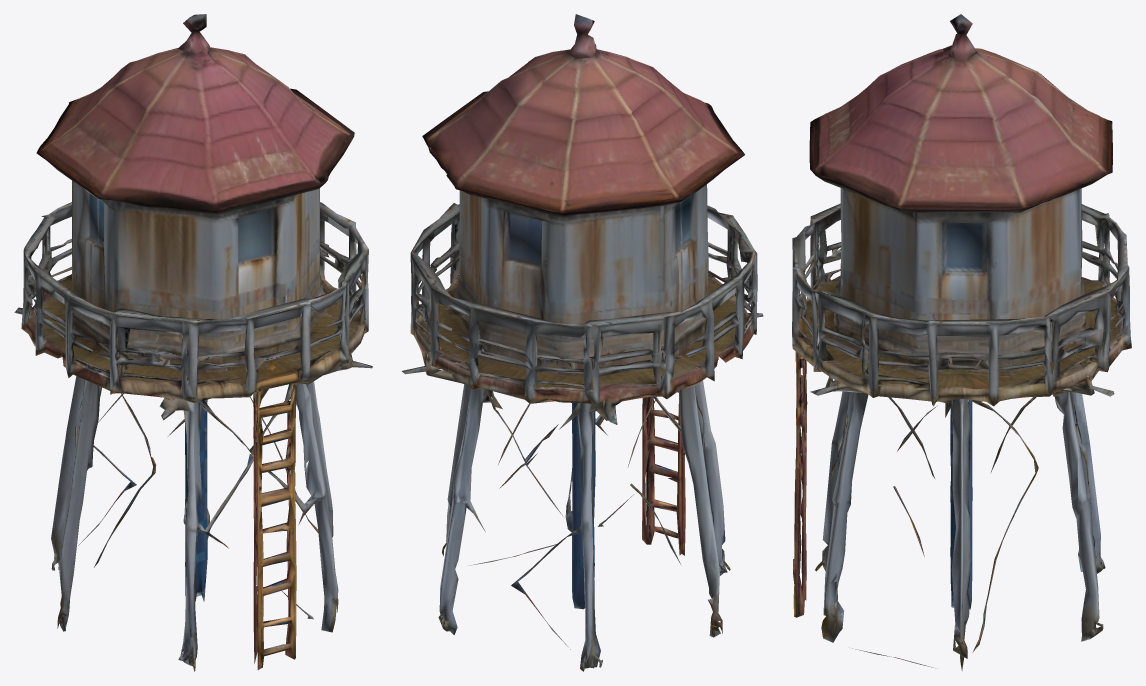
File: water_tower.glb
The picture shows the model from 3 angles, left to right: view 1: azimuth 30°, elevation 25°; view 2: azimuth 150°, elevation 25°; view 3: azimuth 270°, elevation 25°; orthographic projection.
Bounding box in the file's own units: 1.04 × 2.01 × 1.04.
1 material, 1 textured.
